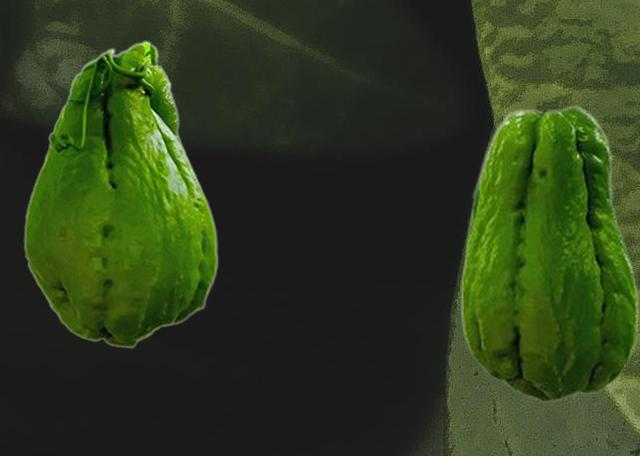sayote: (23, 40, 218, 348), (460, 104, 638, 402)
